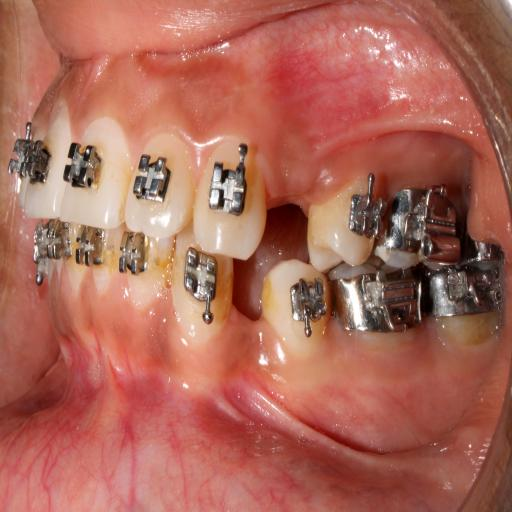correct_brace: (303, 176, 389, 270), (204, 158, 250, 222), (131, 149, 168, 208), (65, 141, 104, 192)
incorrect_brace: (126, 131, 196, 237), (344, 183, 388, 243)
